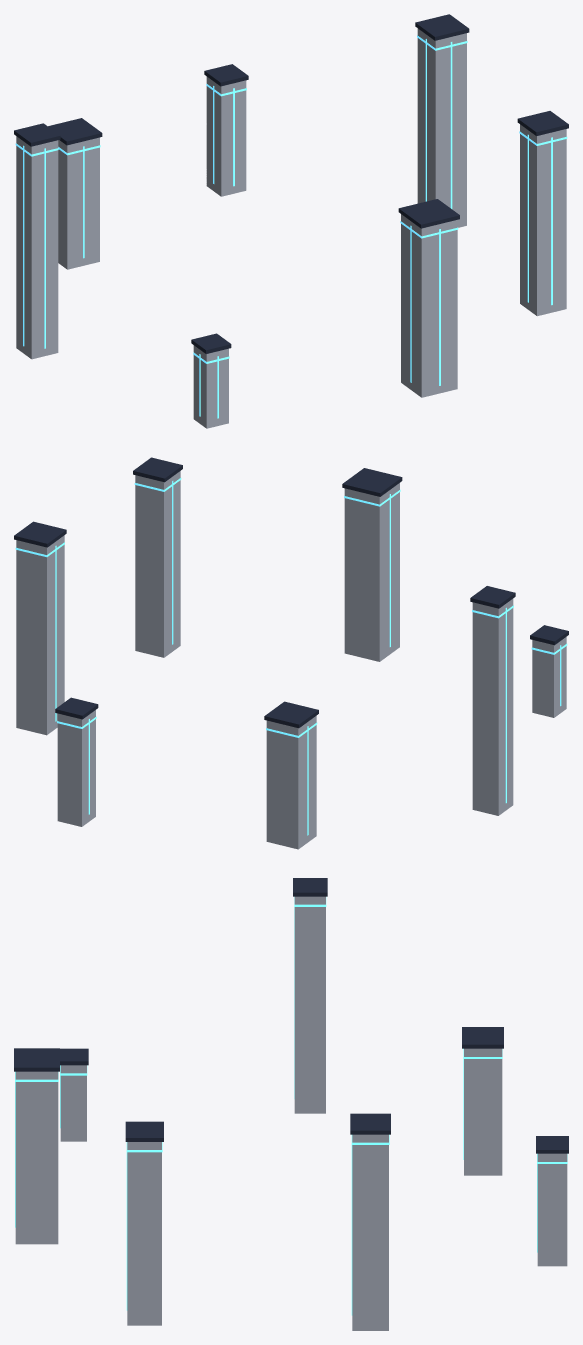
3 renders of one model, top to bottom at view 1: azimuth 30°, elevation 25°; view 2: azimuth 150°, elevation 25°; view 3: azimuth 270°, elevation 25°, orthographic. The views are drawn at different scales.
Visible parts, largest first — view 1: nexo_spires_arcade.lod1; view 2: nexo_spires_arcade.lod1; view 3: nexo_spires_arcade.lod1.
Boxes of the visible parts, bbox=[...] form: nexo_spires_arcade.lod1: bbox=[14, 14, 568, 428]; nexo_spires_arcade.lod1: bbox=[14, 457, 568, 849]; nexo_spires_arcade.lod1: bbox=[14, 878, 568, 1330].
Size of the model in its own units: 25.19 by 11.22 by 25.46.
